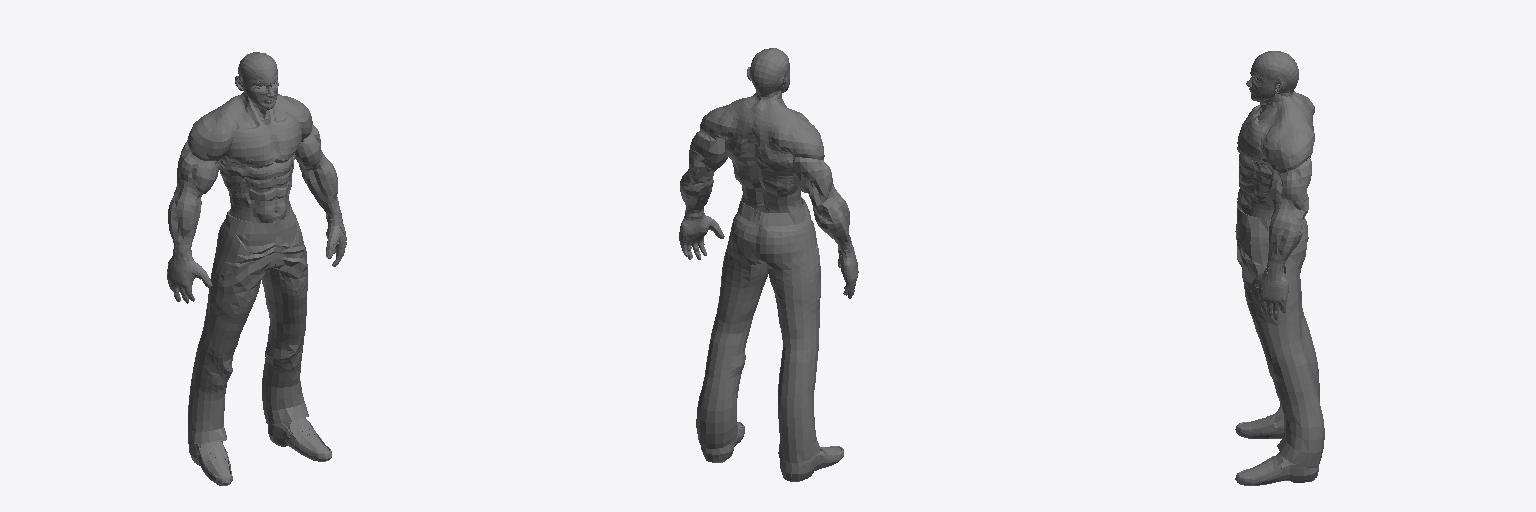
The model's file is Man.obj.
3 renders of one model, left to right at view 1: azimuth 30°, elevation 25°; view 2: azimuth 150°, elevation 25°; view 3: azimuth 270°, elevation 25°, orthographic.
Visible parts, largest first — view 1: polySurface82 polySurface81 polySurface80 polySurface79 polySurf, pCylinder2, polySurface24 group3 group1, group1 polySurface24 group4, polySurface30 polySurface33, polySurface30 polySurface32; view 2: pCylinder2, polySurface82 polySurface81 polySurface80 polySurface79 polySurf, group1 polySurface24 group4, polySurface30 polySurface32, polySurface30 polySurface33, polySurface24 group3 group1; view 3: polySurface82 polySurface81 polySurface80 polySurface79 polySurf, pCylinder2, polySurface24 group3 group1, polySurface30 polySurface32, group1 polySurface24 group4.
Part boxes in pixels (x1,y1,x2,y2): polySurface82 polySurface81 polySurface80 polySurface79 polySurf: (168, 52, 341, 303); pCylinder2: (188, 204, 308, 443); polySurface24 group3 group1: (268, 418, 331, 461); group1 polySurface24 group4: (188, 441, 232, 485); polySurface30 polySurface33: (167, 249, 206, 294); polySurface30 polySurface32: (326, 213, 346, 257); pCylinder2: (696, 197, 820, 464); polySurface82 polySurface81 polySurface80 polySurface79 polySurf: (680, 48, 854, 298); group1 polySurface24 group4: (780, 446, 843, 481); polySurface30 polySurface32: (679, 208, 718, 250); polySurface30 polySurface33: (838, 247, 858, 290); polySurface24 group3 group1: (701, 422, 744, 462); polySurface82 polySurface81 polySurface80 polySurface79 polySurf: (1237, 51, 1314, 319); pCylinder2: (1235, 204, 1324, 467); polySurface24 group3 group1: (1235, 452, 1318, 485); polySurface30 polySurface32: (1253, 266, 1288, 309); group1 polySurface24 group4: (1235, 412, 1284, 438).
Bounding box in the file's own units: 12.21 × 27.24 × 5.44.